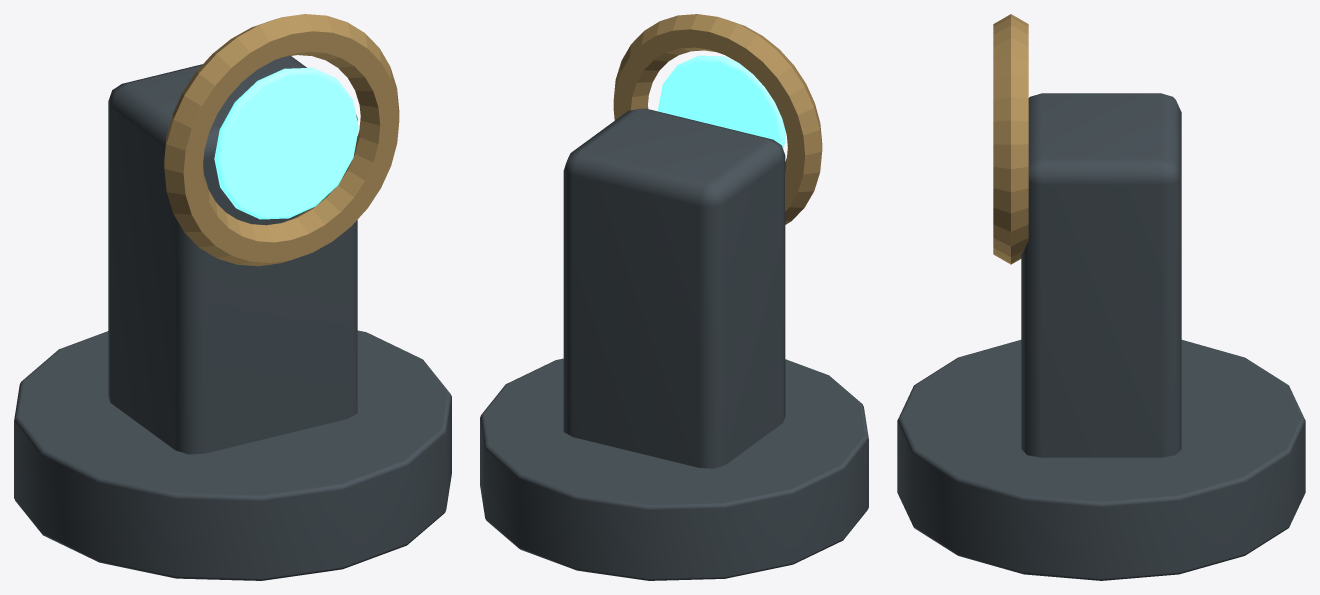
File: receiver.glb
3 views of the same model, side by side, from view 1: azimuth 30°, elevation 25°; view 2: azimuth 150°, elevation 25°; view 3: azimuth 270°, elevation 25° (orthographic). The views are drawn at different scales.
Parts seen in each view (by area): view 1: Receiver base, Receiver plinth, Receiver ring, Receiver surface; view 2: Receiver plinth, Receiver base, Receiver ring, Receiver surface; view 3: Receiver base, Receiver plinth, Receiver ring.
Part boxes in pixels (<box>): Receiver base: <box>14,330,451,580</box>; Receiver plinth: <box>108,56,357,454</box>; Receiver ring: <box>164,14,399,266</box>; Receiver surface: <box>214,67,358,219</box>; Receiver plinth: <box>563,108,785,468</box>; Receiver base: <box>480,358,868,580</box>; Receiver ring: <box>613,14,822,224</box>; Receiver surface: <box>658,55,786,149</box>; Receiver base: <box>897,340,1305,580</box>; Receiver plinth: <box>1021,93,1181,457</box>; Receiver ring: <box>993,14,1028,264</box>.
Size of the model in its own units: 1.4 by 1.78 by 1.4.
